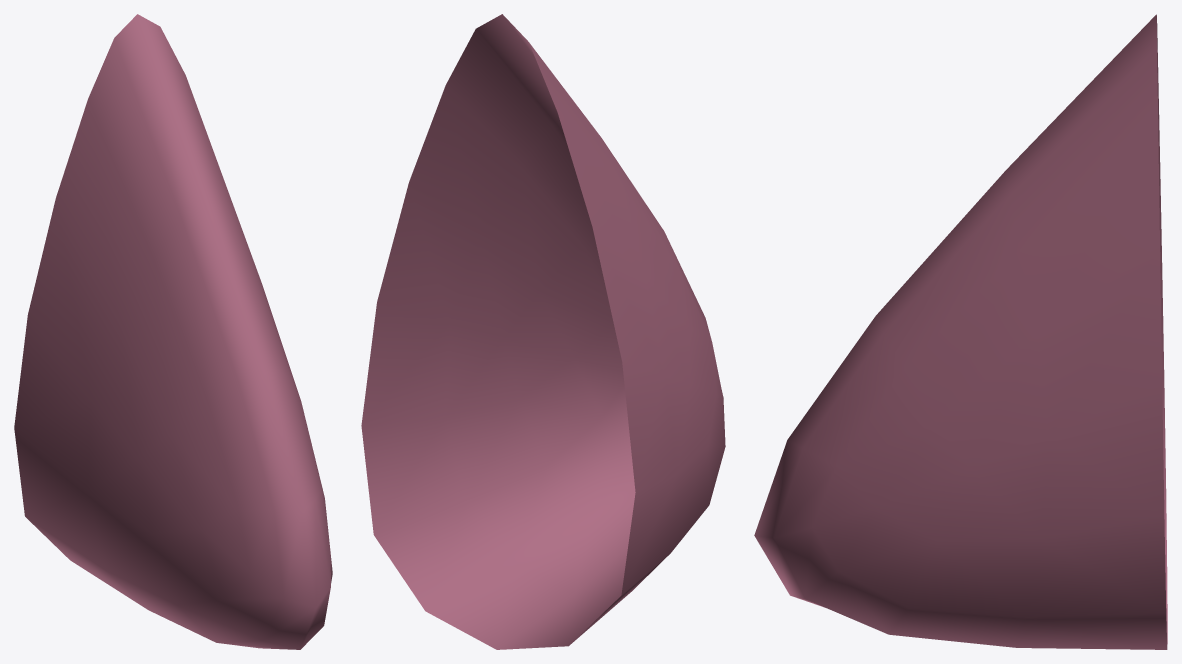
File: nose4.fbx
3 views of the same model, side by side, from view 1: azimuth 30°, elevation 25°; view 2: azimuth 150°, elevation 25°; view 3: azimuth 270°, elevation 25° (orthographic). The views are drawn at different scales.
Parts seen in each view (by area): view 1: nose4; view 2: nose4; view 3: nose4.
Part boxes in pixels (bbox=[...]): nose4: bbox=[14, 14, 332, 649]; nose4: bbox=[361, 14, 725, 649]; nose4: bbox=[754, 14, 1167, 649].
Bounding box in the file's own units: 3.42 × 7.54 × 4.53.
